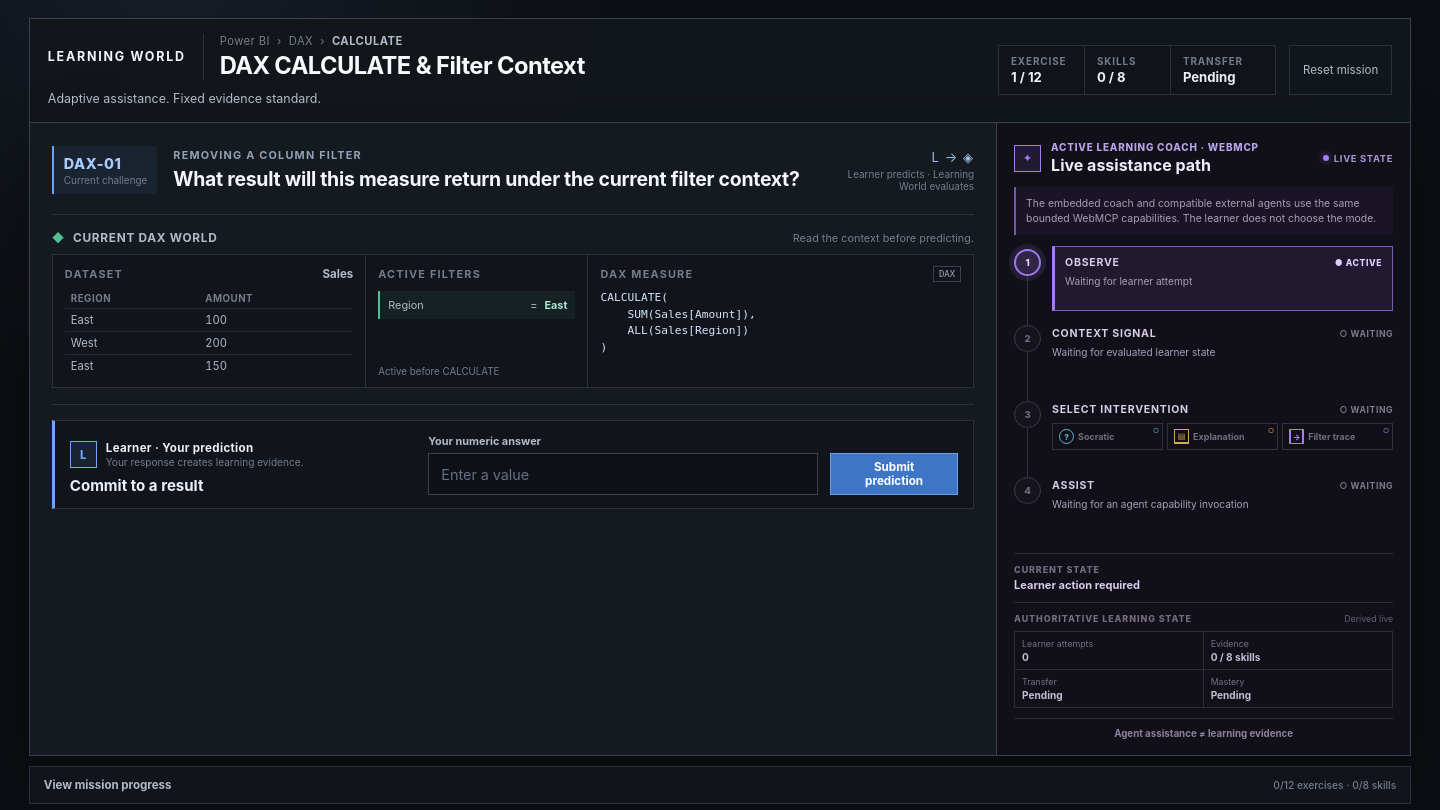
it: embedded DAX Active Learning Coach flow › keeps the mission usable when coach selection fails
This screenshot has width=1440, height=810.
Type "250" into the number field labelled "Your numeric answer" at (623, 474), box [428, 453, 818, 495]
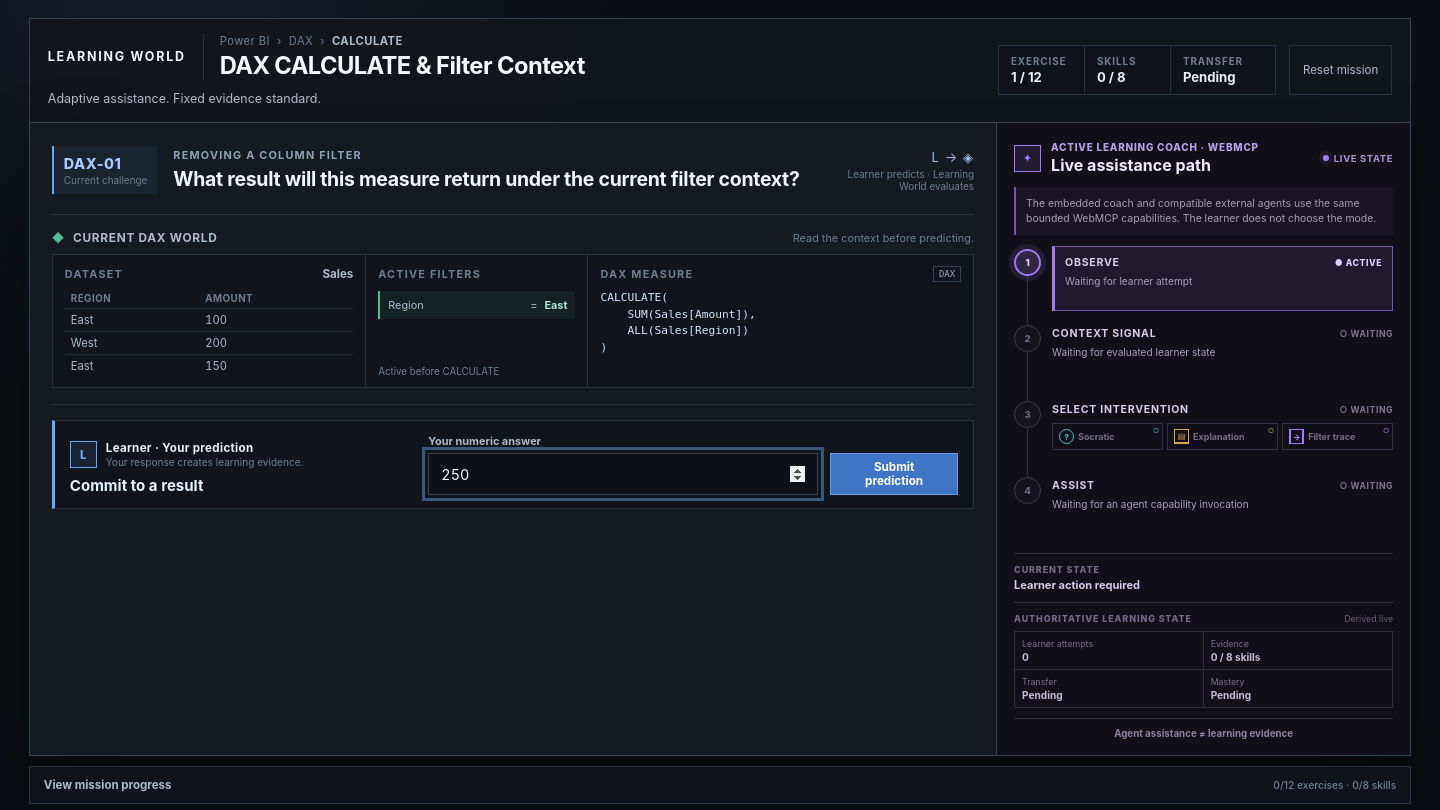
Click the button "Submit prediction" at (894, 474), box [830, 453, 958, 495]
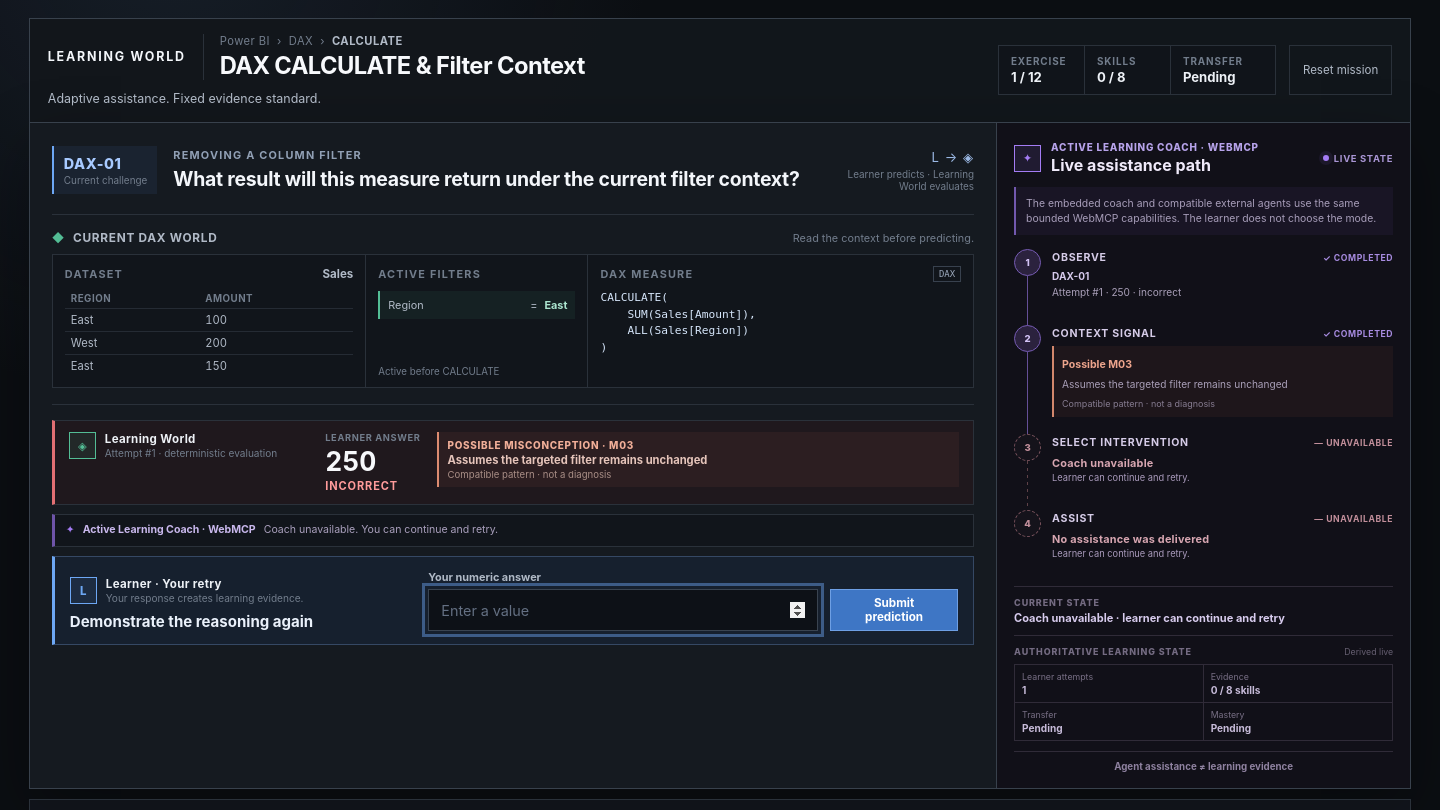
Check: the element named "AI Agent live path" shows "Coach unavailable", box [1052, 456, 1154, 470]
Type "450" into the number field labelled "Your numeric answer" at (623, 610), box [428, 589, 818, 631]
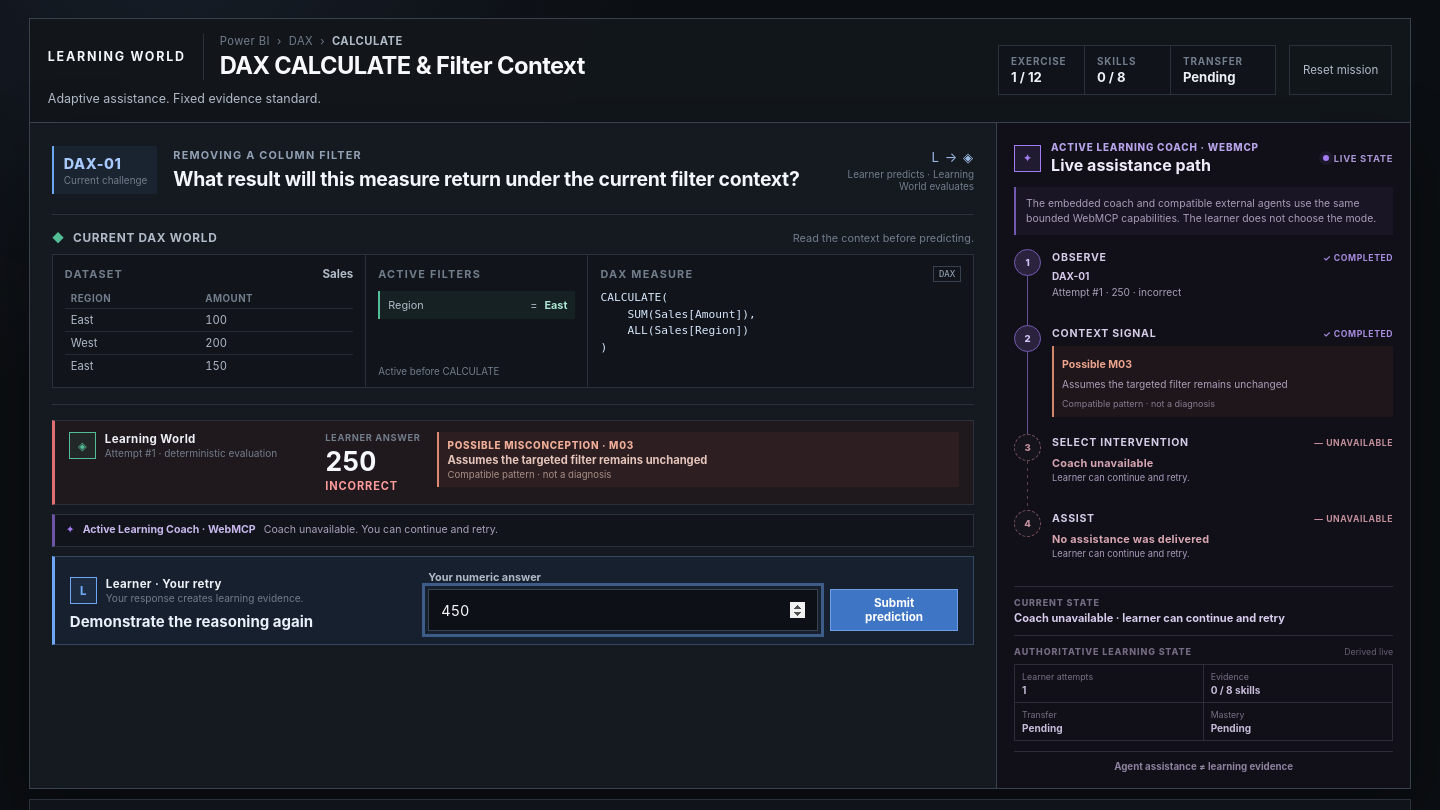
Click the button "Submit prediction" at (894, 610), box [830, 589, 958, 631]
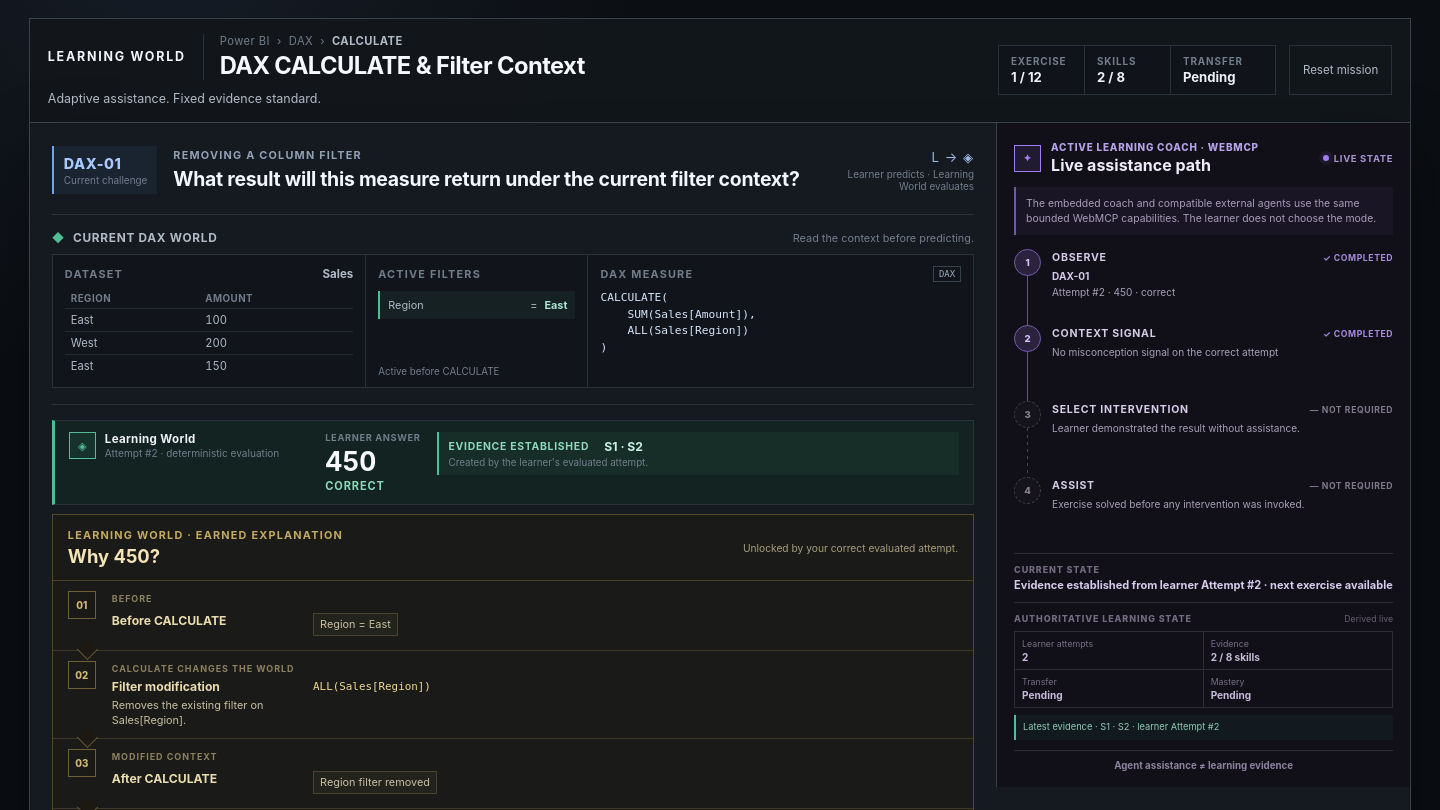
Check: the text "Evidence established" is shown, box [448, 440, 594, 453]
Check: the element named "AI Agent live path" shows "Evidence established from learner Attempt #2", box [1014, 578, 1393, 592]
